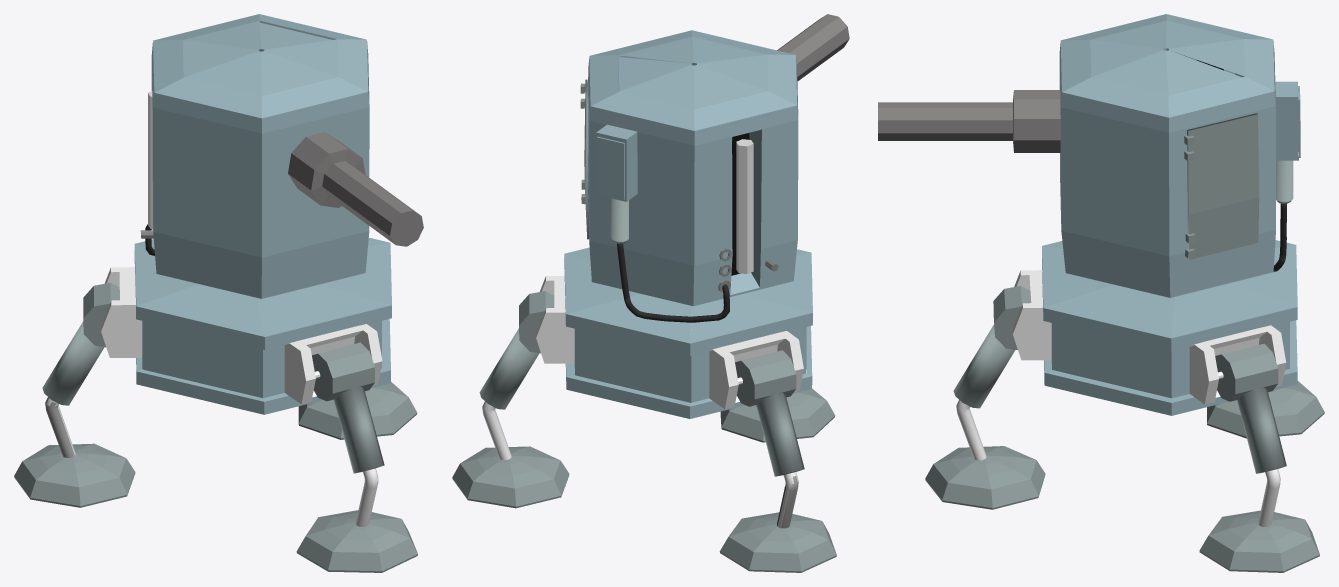
File: turret1.fbx
3 views of the same model, side by side, from view 1: azimuth 30°, elevation 25°; view 2: azimuth 150°, elevation 25°; view 3: azimuth 270°, elevation 25° (orthographic). The views are drawn at different scales.
Parts seen in each view (by area): view 1: Top, Bottom; view 2: Top, Bottom; view 3: Top, Bottom.
Part boxes in pixels (<box>): Top: <box>140,14,423,298</box>; Bottom: <box>14,237,417,572</box>; Top: <box>580,14,849,322</box>; Bottom: <box>452,247,836,572</box>; Top: <box>878,14,1300,297</box>; Bottom: <box>925,240,1324,572</box>.
Bounding box in the file's own units: 236 × 256 × 241.
